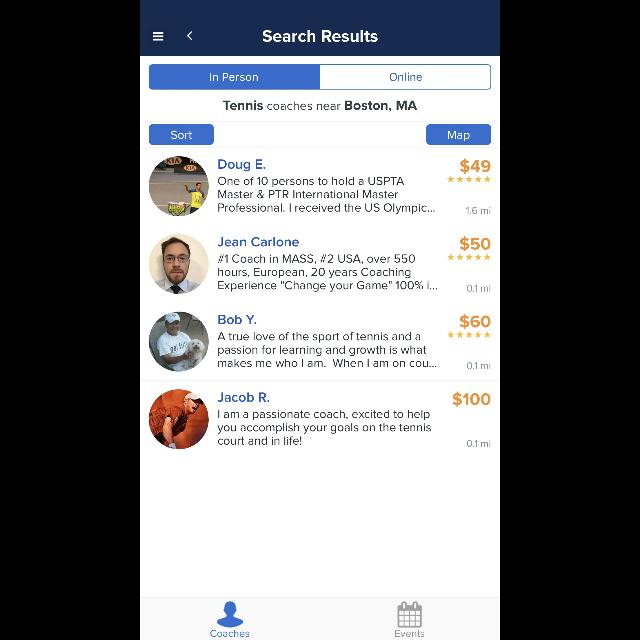icon: (217, 601, 243, 627), (398, 600, 422, 628), (447, 330, 491, 338), (447, 175, 491, 182), (447, 253, 491, 260), (152, 32, 164, 42), (187, 32, 193, 40)
image: (149, 389, 209, 449), (149, 312, 209, 372), (149, 234, 209, 294), (149, 157, 209, 217)
text: (218, 254, 438, 292), (218, 176, 436, 214), (218, 332, 437, 368), (218, 410, 430, 444), (223, 100, 417, 112), (262, 30, 378, 42), (218, 237, 300, 247), (218, 160, 266, 172), (453, 392, 491, 406), (217, 392, 269, 402), (460, 236, 490, 252), (460, 158, 490, 174), (460, 314, 490, 328), (219, 315, 257, 325), (210, 630, 250, 636), (467, 440, 491, 448), (467, 362, 491, 370), (467, 284, 491, 292), (466, 208, 490, 215), (396, 630, 424, 636)
textbutton: (148, 64, 320, 90), (320, 64, 492, 90), (426, 124, 492, 146), (148, 124, 214, 146)
